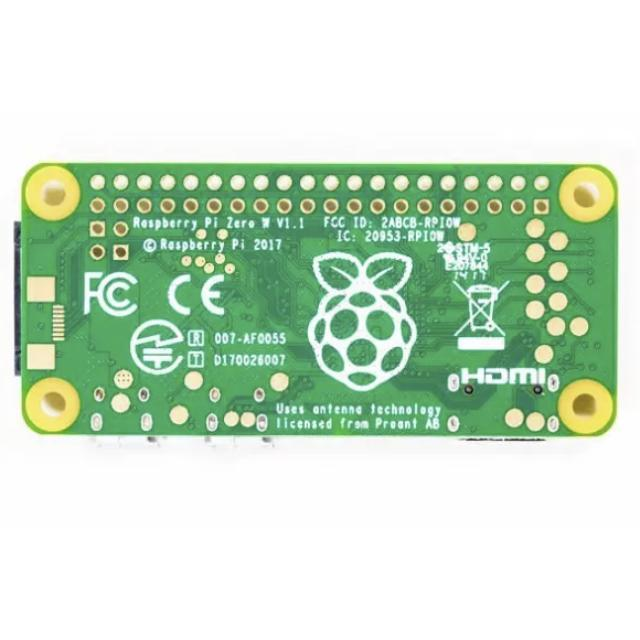Raspberry-Pi-Zero-W: (17, 162, 620, 442)
